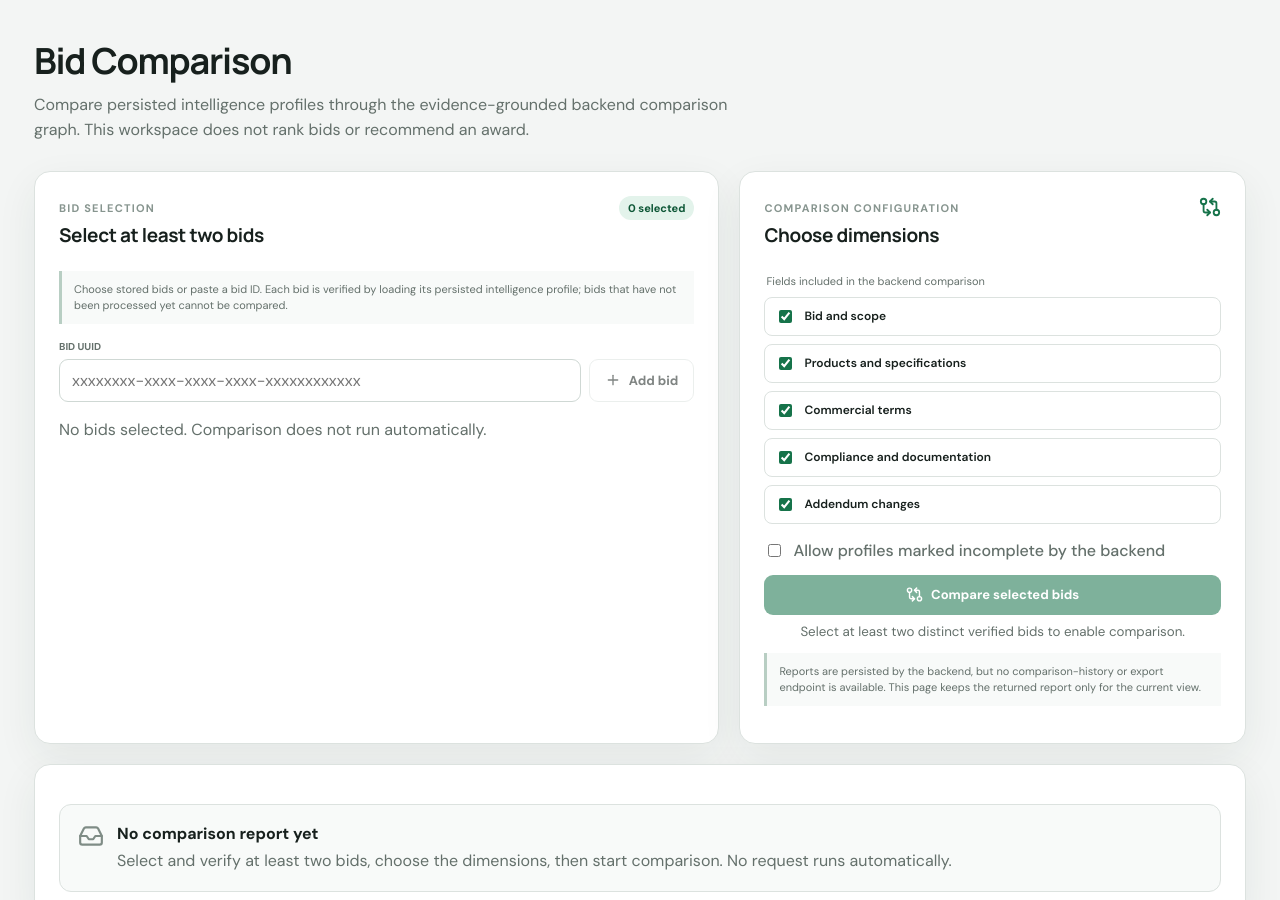
Test: Bid Comparison page › submits the exact synchronous comparison request after two distinct bids
The width and height of the screenshot is (1280, 900).
Step 1. Type "11111111-1111-4111-8111-111111111111" into the field labelled "Bid UUID" → [320, 380], box [59, 359, 581, 402]
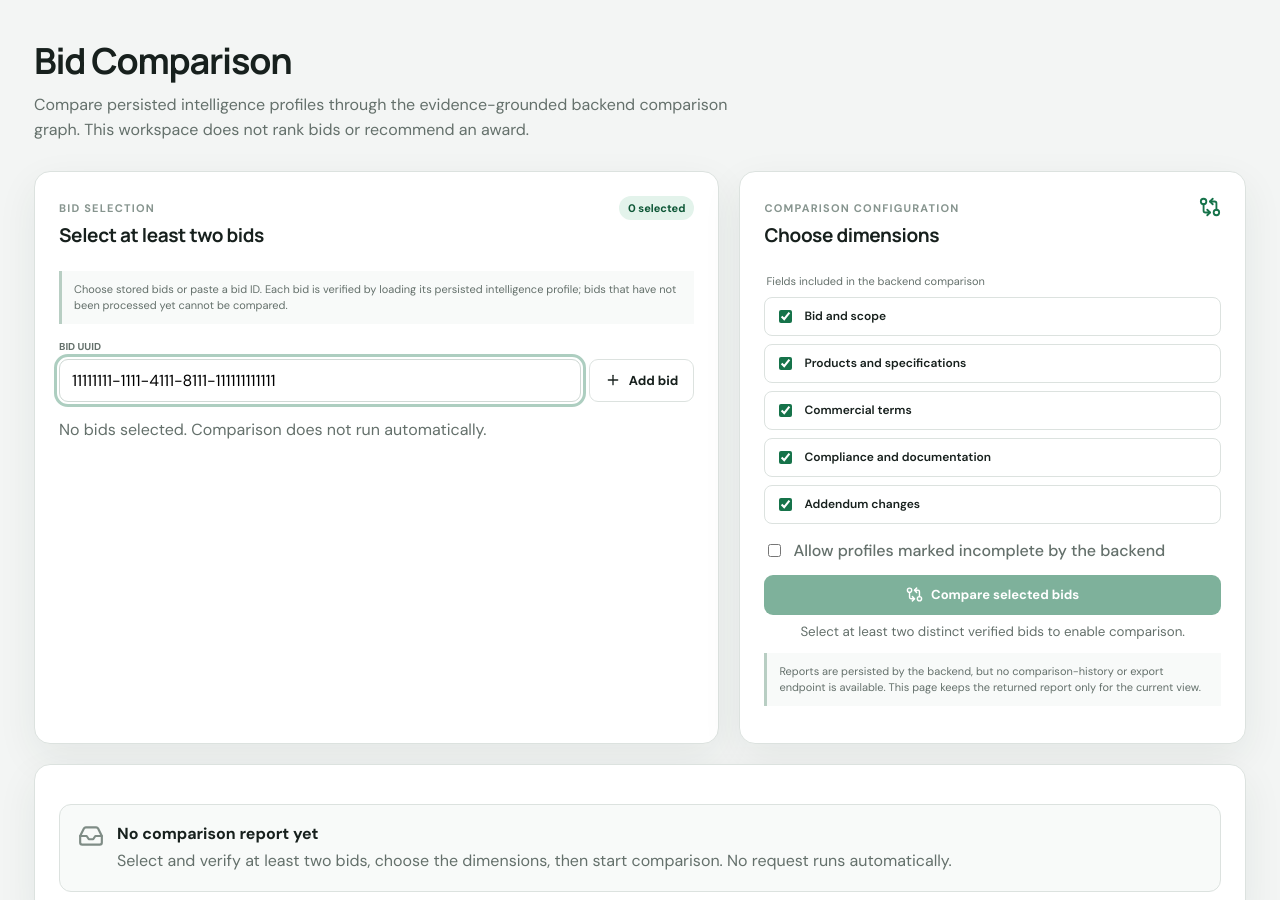
Step 2. Click the button "Add bid" → [642, 380], box [589, 359, 694, 402]
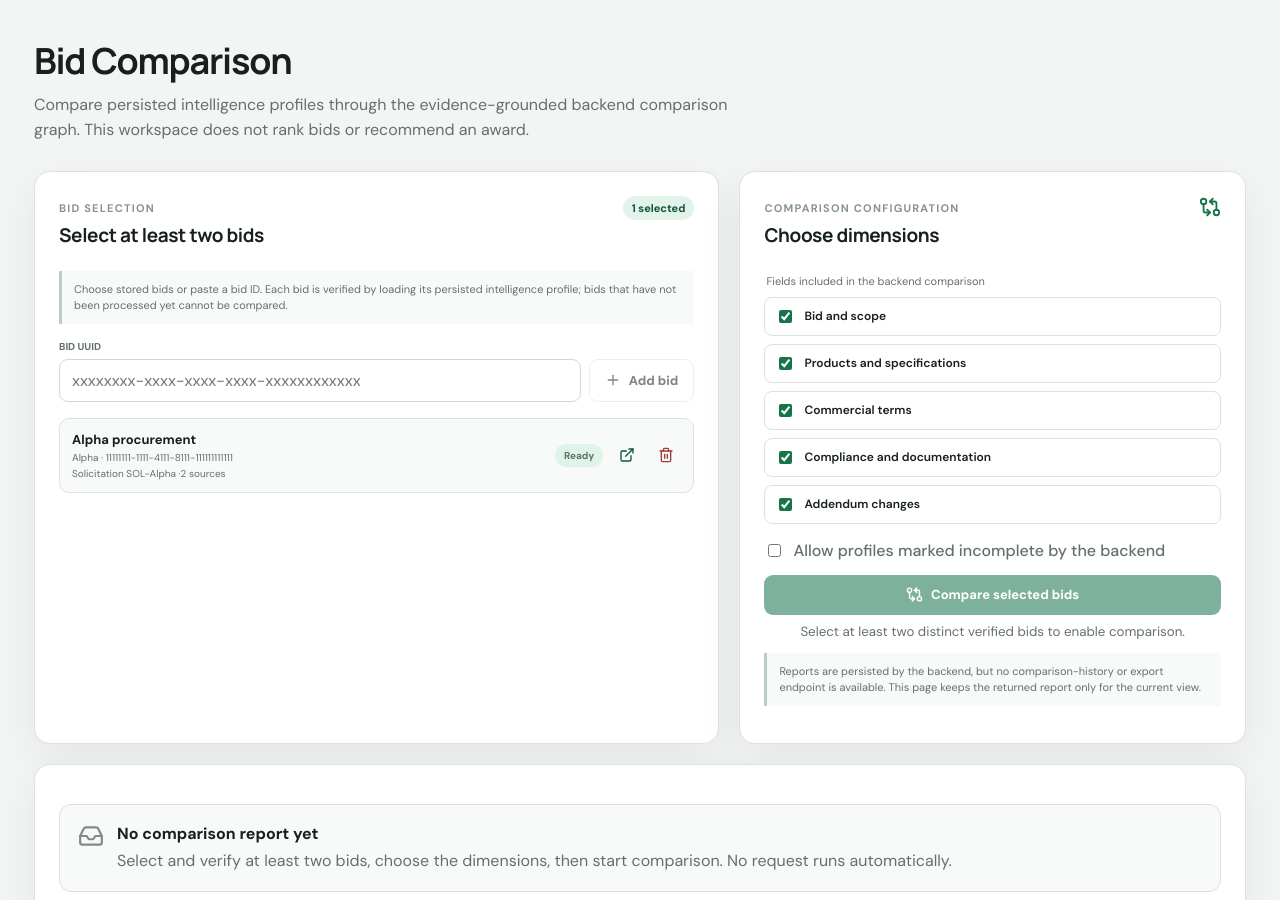
Expected: the text "Alpha procurement" is shown, [72, 431, 196, 448]
Step 3. Type "22222222-2222-4222-8222-222222222222" into the field labelled "Bid UUID" → [320, 380], box [59, 359, 581, 402]
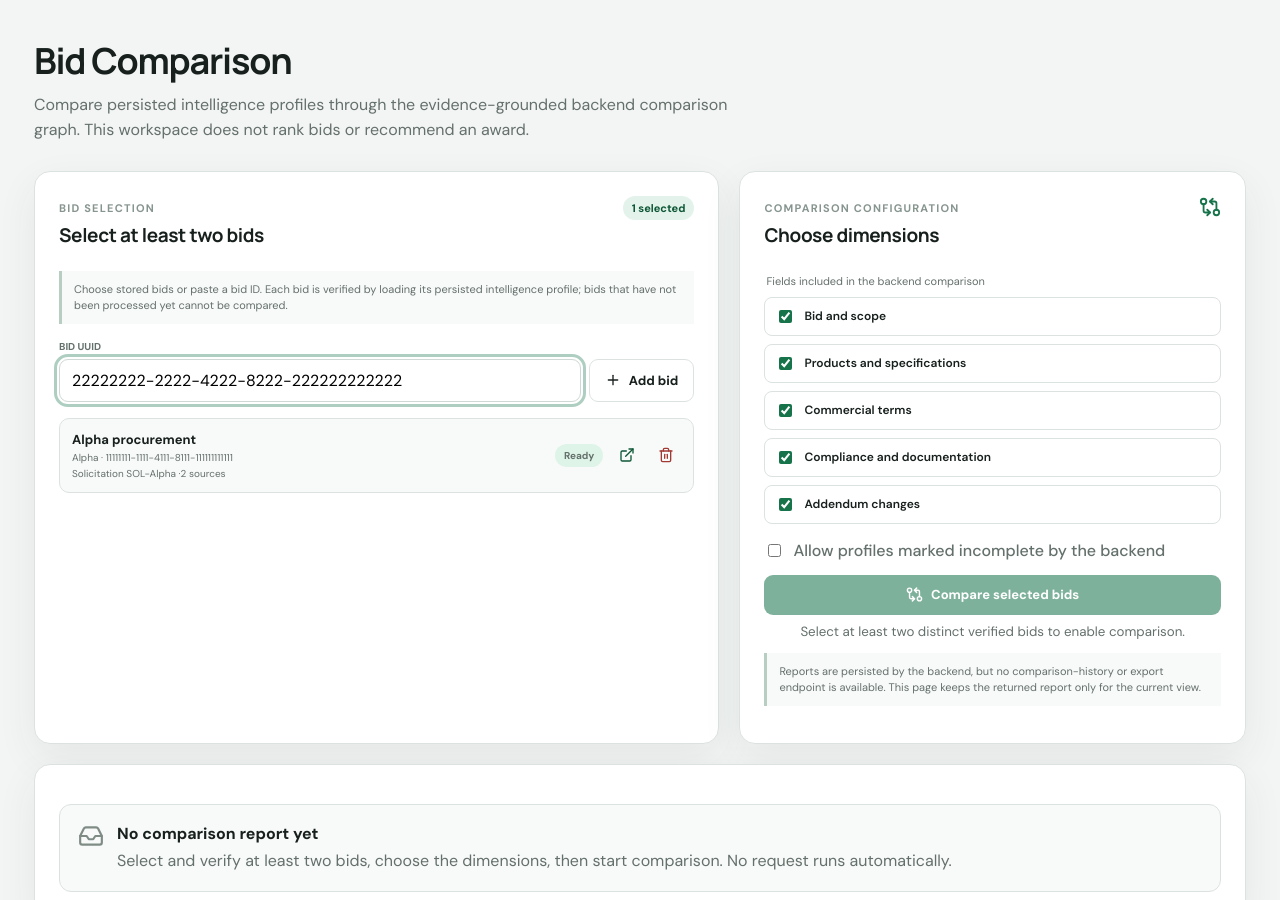
Step 4. Click the button "Add bid" → [642, 380], box [589, 359, 694, 402]
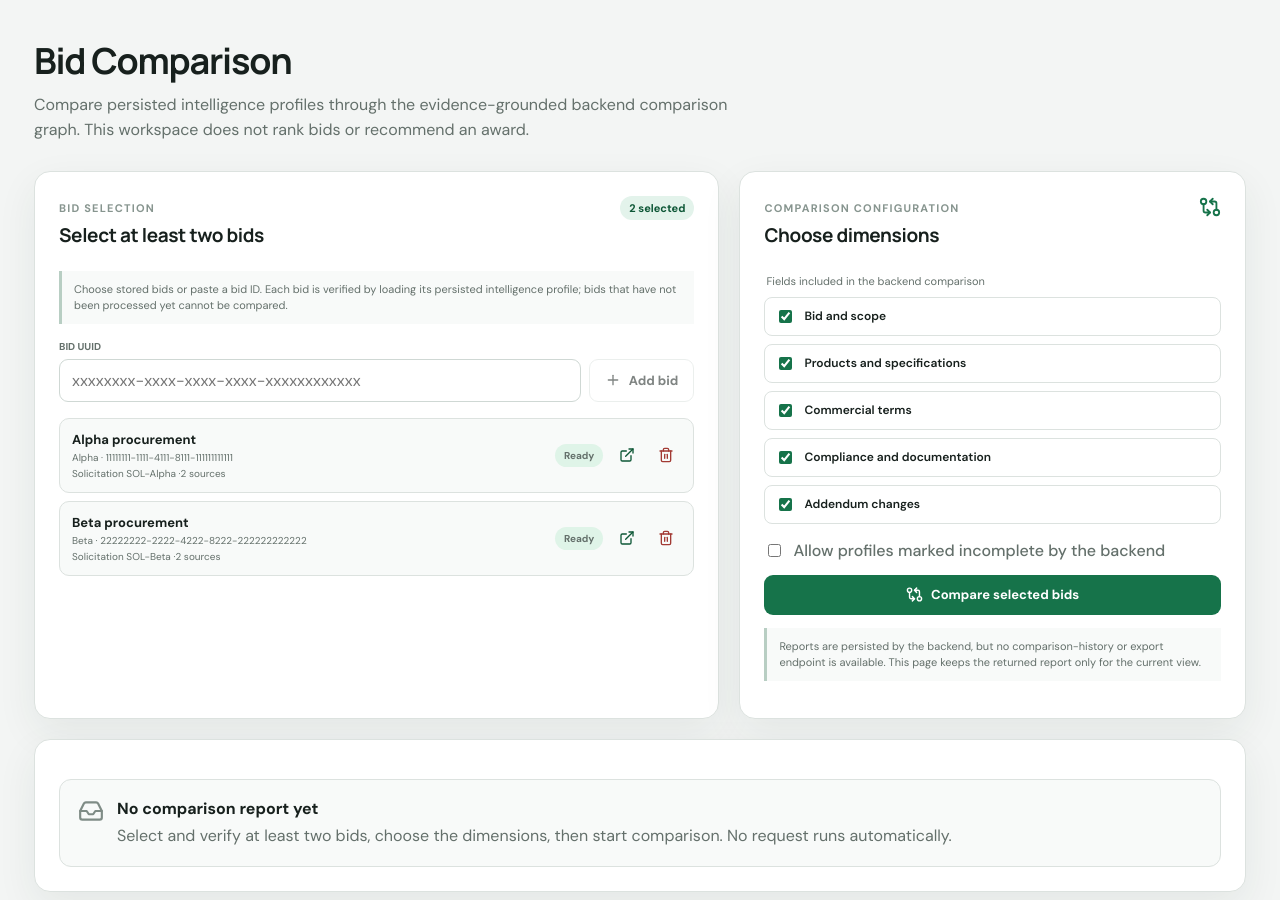
Expected: the text "Beta procurement" is shown, [72, 514, 189, 531]
Step 5. Click the button "Compare selected bids" → [993, 595], box [764, 575, 1221, 615]
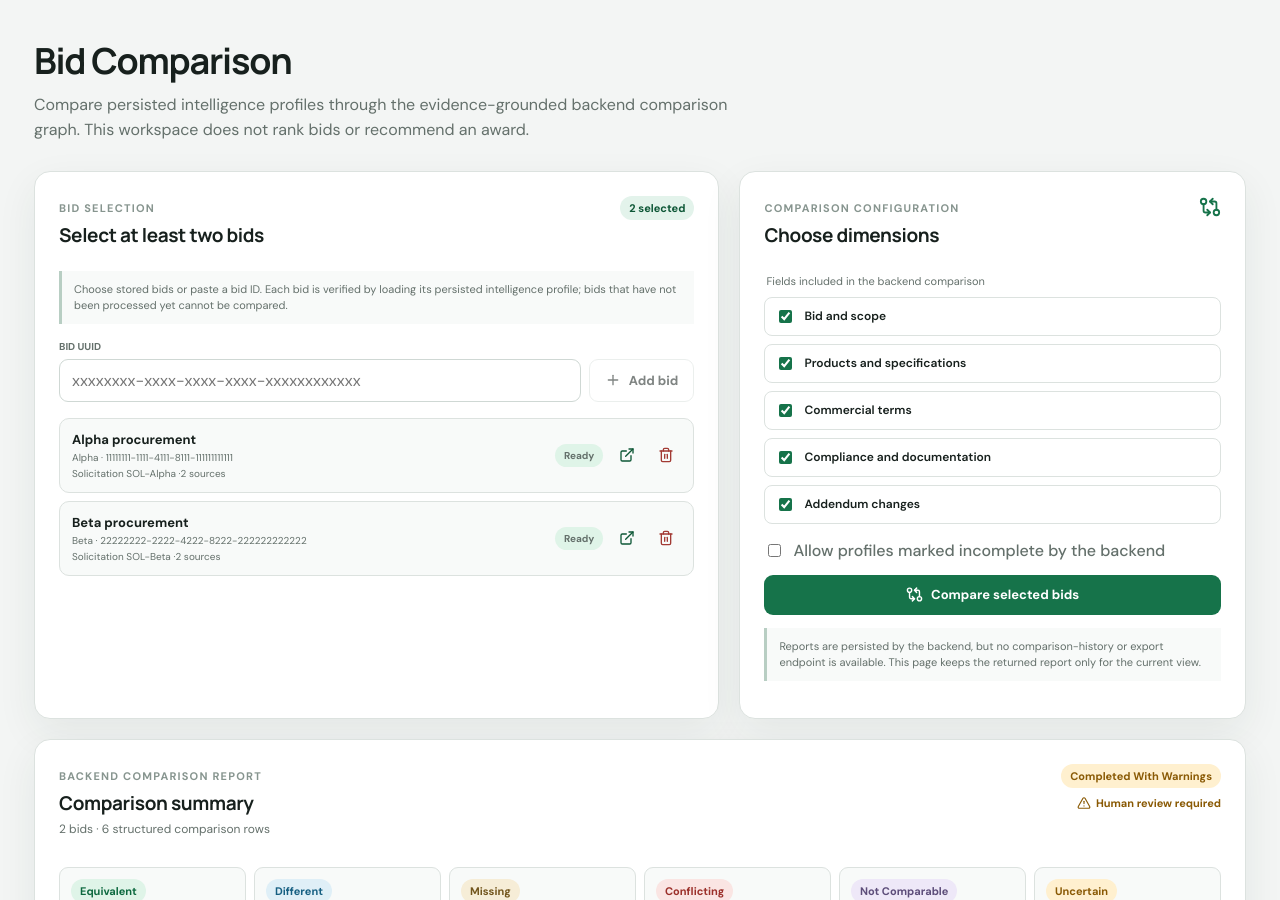
Expected: the heading "Comparison summary" is shown, [59, 790, 270, 816]
